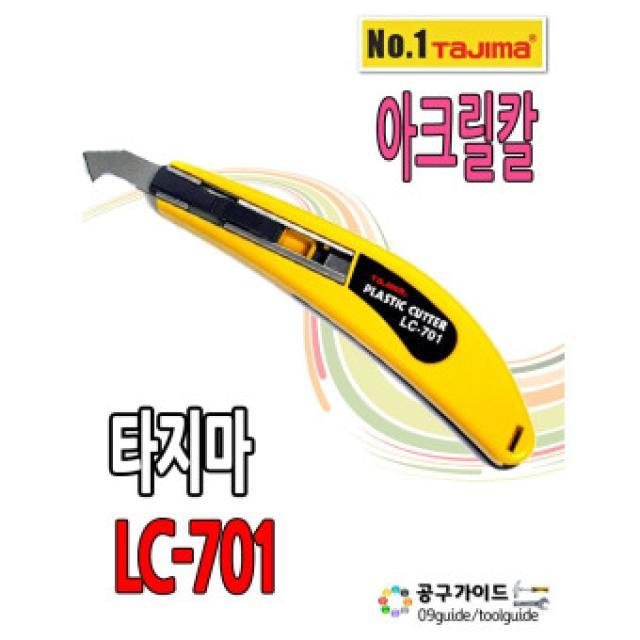cutter: (78, 138, 547, 474)
